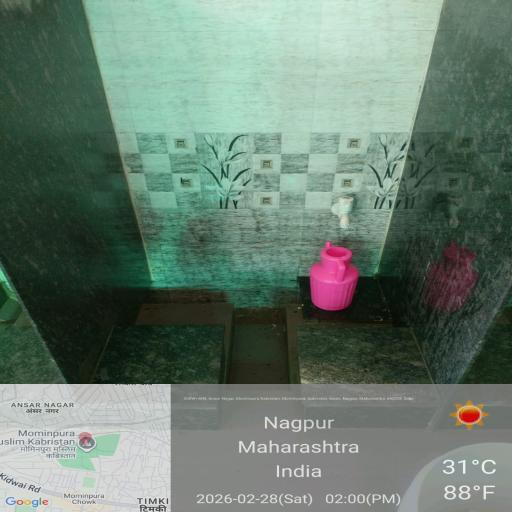clean_floor: (40, 23, 492, 196)
partial_dirty_floor: (118, 238, 473, 512)
